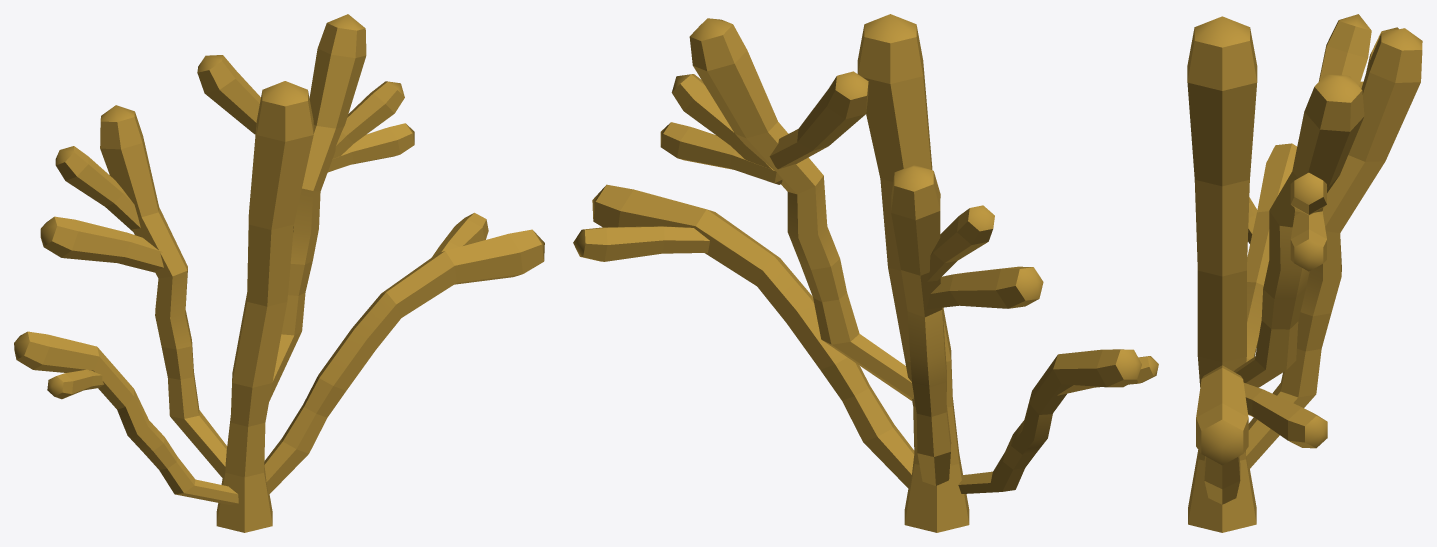
File: coral_model_3.fbx
The picture shows the model from 3 angles, left to right: view 1: azimuth 30°, elevation 25°; view 2: azimuth 150°, elevation 25°; view 3: azimuth 270°, elevation 25°; orthographic projection. The views are drawn at different scales.
Parts seen in each view (by area): view 1: pCylinder13; view 2: pCylinder13; view 3: pCylinder13.
Boxes of the visible parts, bbox=[...] form: pCylinder13: bbox=[14, 14, 544, 532]; pCylinder13: bbox=[573, 14, 1158, 532]; pCylinder13: bbox=[1187, 14, 1422, 532].
Bounding box in the file's own units: 22.2 × 18.29 × 7.36.
